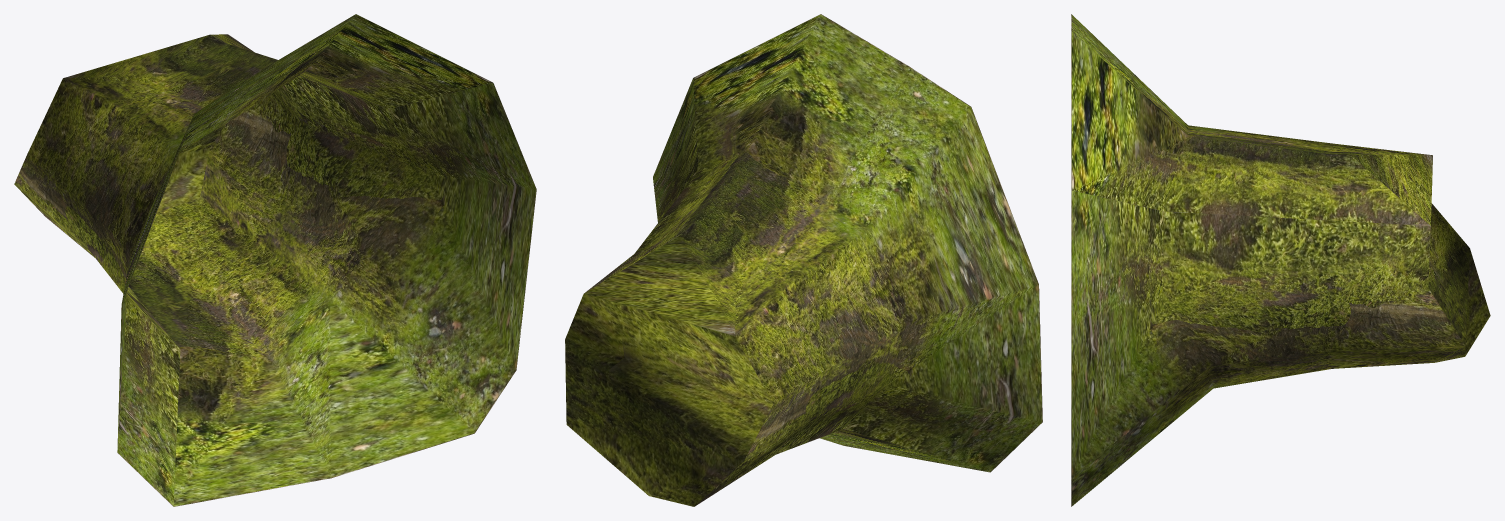
File: forest ground stub 2.fbx
3 renders of one model, left to right at view 1: azimuth 30°, elevation 25°; view 2: azimuth 150°, elevation 25°; view 3: azimuth 270°, elevation 25°, orthographic. The views are drawn at different scales.
Parts seen in each view (by area): view 1: Cylinder_007; view 2: Cylinder_007; view 3: Cylinder_007.
Part boxes in pixels (box(x1,y1,x2,y2)): Cylinder_007: box(14, 14, 536, 506); Cylinder_007: box(565, 14, 1042, 506); Cylinder_007: box(1071, 14, 1490, 506).
Bounding box in the file's own units: 0.9921 × 1.04 × 0.915.
